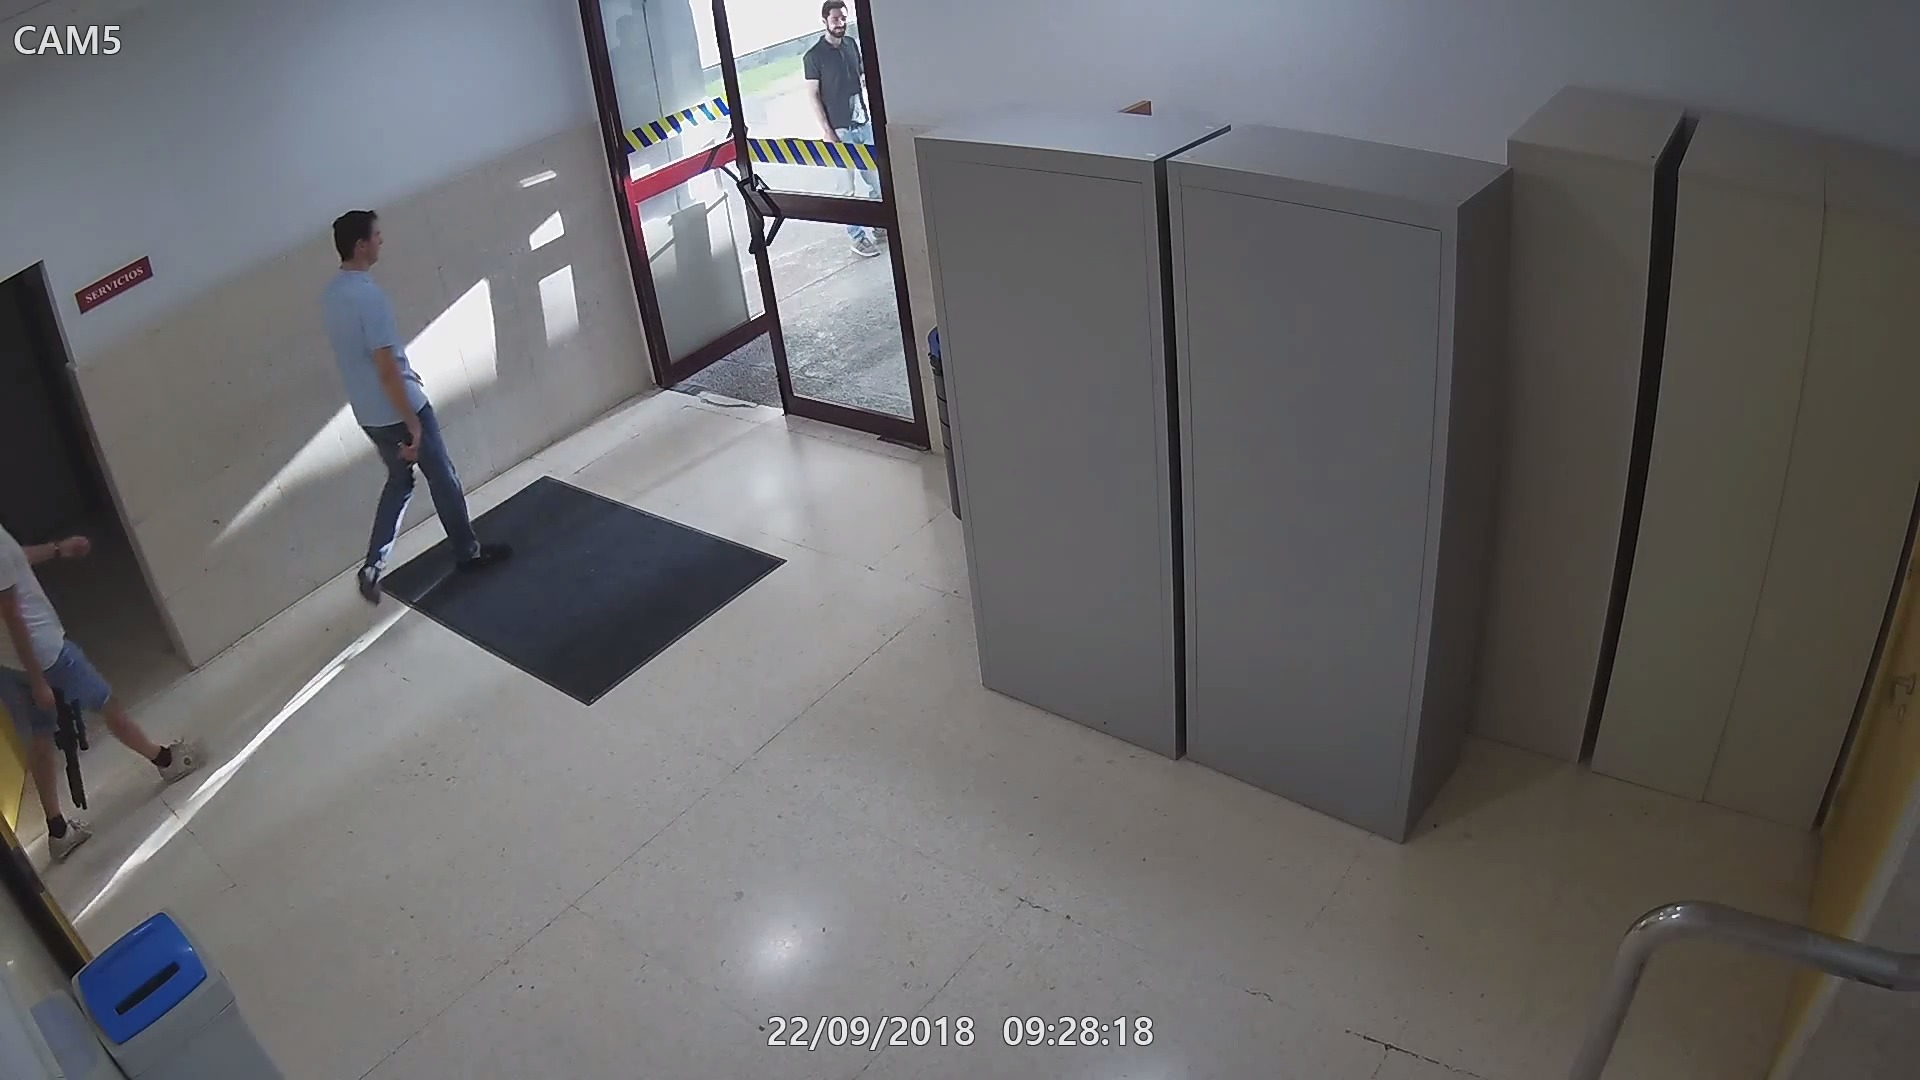Short_rifle: (26, 680, 100, 812)
